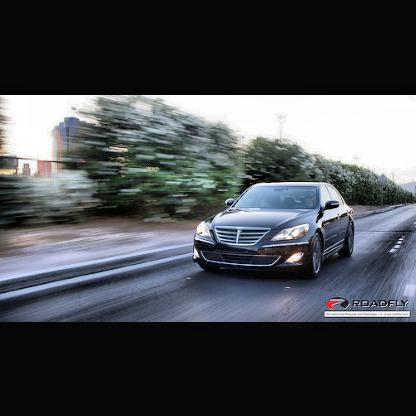Hyundai Genesis Sedan 2012: (193, 180, 358, 282)
